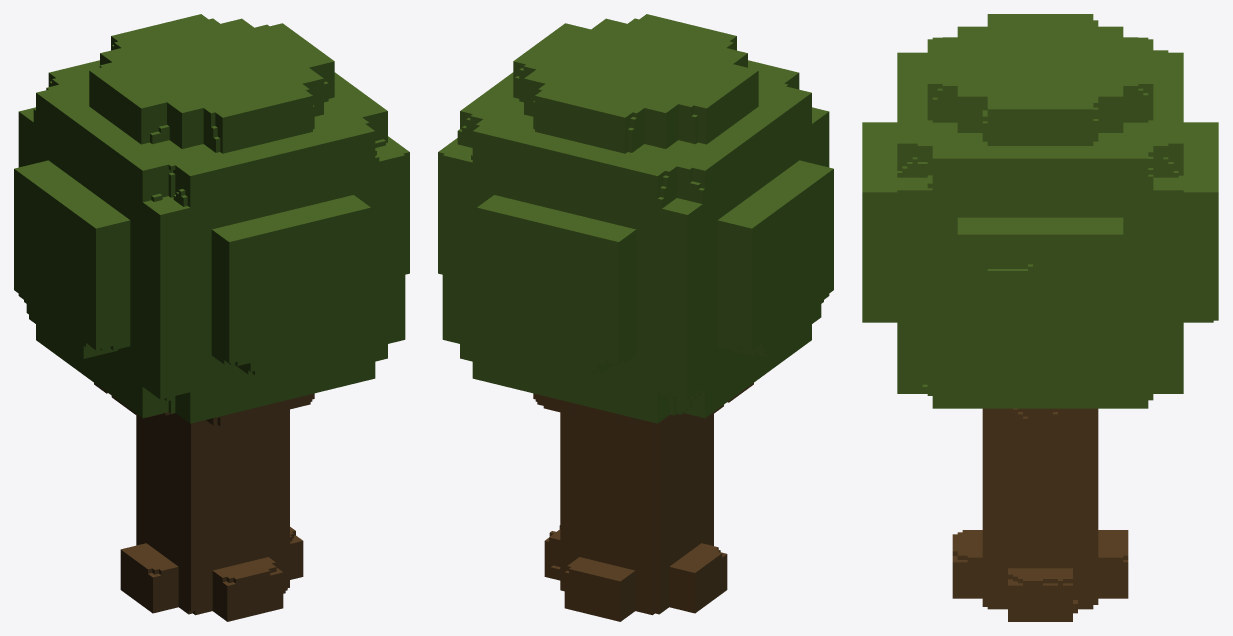
Rendered from oak-base_basic_shaded.glb.
3 renders of one model, left to right at view 1: azimuth 30°, elevation 25°; view 2: azimuth 150°, elevation 25°; view 3: azimuth 270°, elevation 25°, orthographic.
Parts seen in each view (by area): view 1: model; view 2: model; view 3: model.
Boxes of the visible parts, x1,y1,x2,y2 form: model: (14,14,409,621); model: (438,14,833,621); model: (862,14,1218,621).
Size of the model in its own units: 1.2 by 1.9 by 1.17.
